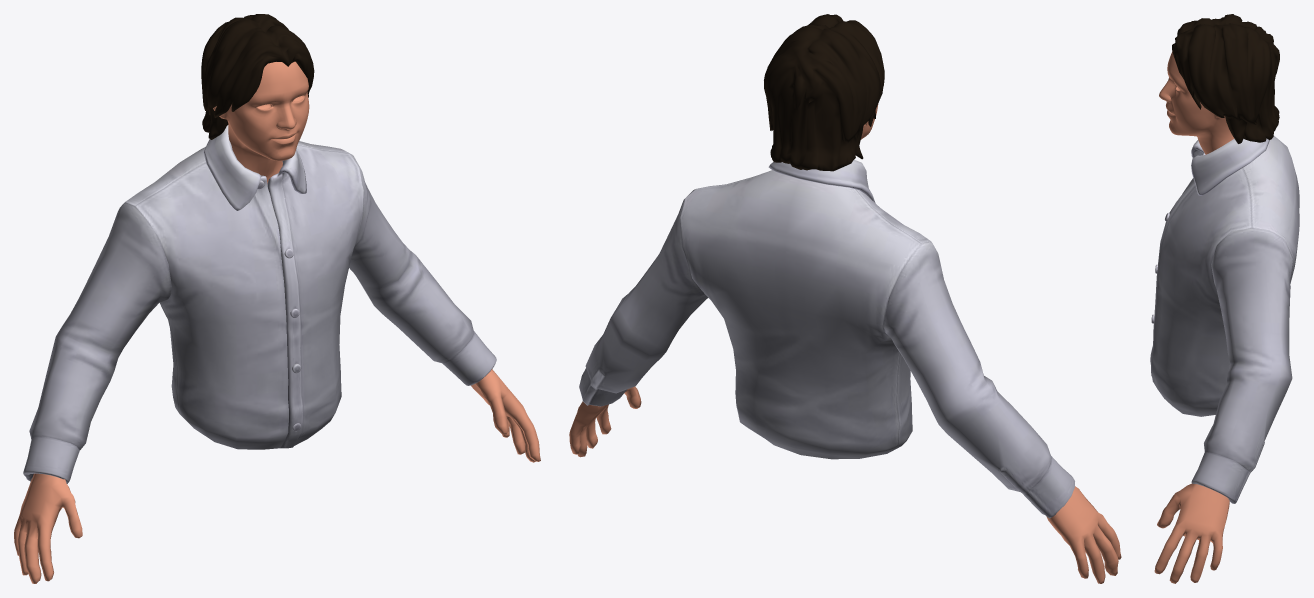
The picture shows the model from 3 angles, left to right: view 1: azimuth 30°, elevation 25°; view 2: azimuth 150°, elevation 25°; view 3: azimuth 270°, elevation 25°; orthographic projection. The views are drawn at different scales.
Parts seen in each view (by area): view 1: Wolf3D_Outfit_Top, Wolf3D_Hair.001, Wolf3D_Body.007, Wolf3D_Head.001; view 2: Wolf3D_Outfit_Top, Wolf3D_Hair.001, Wolf3D_Body.007; view 3: Wolf3D_Outfit_Top, Wolf3D_Hair.001, Wolf3D_Body.007, Wolf3D_Head.001.
Part boxes in pixels (box(x1,y1,x2,y2)): Wolf3D_Outfit_Top: box(23, 125, 496, 483); Wolf3D_Hair.001: box(201, 14, 314, 139); Wolf3D_Body.007: box(14, 369, 540, 583); Wolf3D_Head.001: box(213, 61, 309, 183); Wolf3D_Outfit_Top: box(579, 160, 1074, 518); Wolf3D_Hair.001: box(764, 14, 884, 171); Wolf3D_Body.007: box(569, 386, 1121, 583); Wolf3D_Outfit_Top: box(1150, 135, 1299, 503); Wolf3D_Hair.001: box(1172, 14, 1279, 143); Wolf3D_Body.007: box(1154, 483, 1229, 583); Wolf3D_Head.001: box(1159, 51, 1234, 154).
Bounding box in the file's own units: 10.29 × 9.33 × 2.81.
3 materials, 2 textured.
